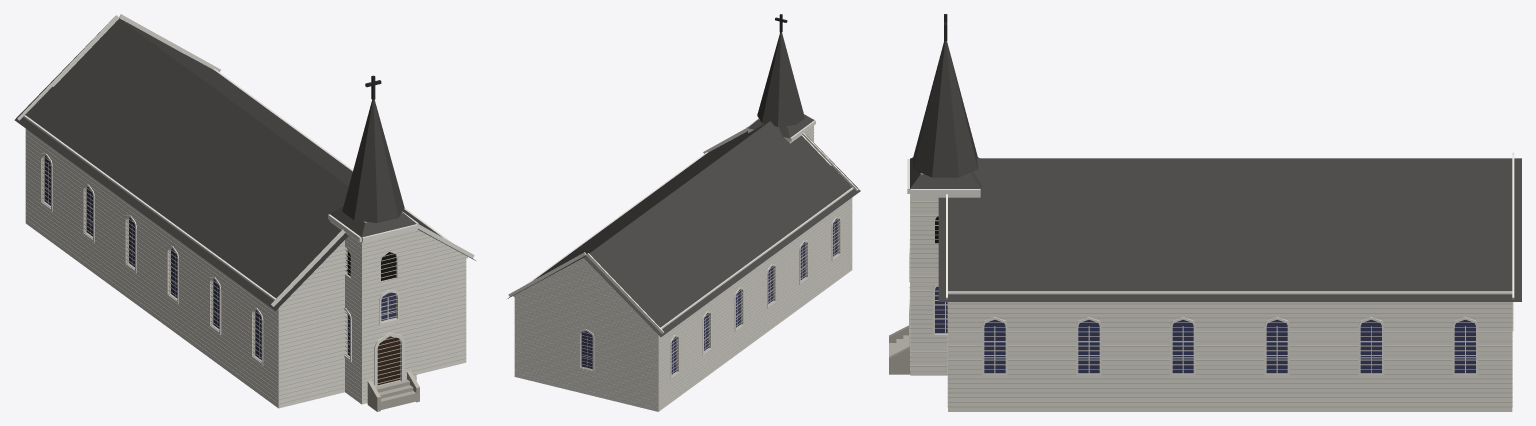
The model's file is ch-st-bartholomews-catholic-1961.glb.
3 views of the same model, side by side, from view 1: azimuth 30°, elevation 25°; view 2: azimuth 150°, elevation 25°; view 3: azimuth 270°, elevation 25° (orthographic). The views are drawn at different scales.
Parts seen in each view (by area): view 1: ch_roof, ch_brick, ch_brick2, ch_trim, ch_roof2, ch_stain, ch_conc, ch_door, ch_shadow; view 2: ch_roof, ch_brick, ch_brick2, ch_trim, ch_roof2, ch_stain; view 3: ch_roof, ch_brick, ch_brick2, ch_trim, ch_stain, ch_roof2, ch_conc.
Boxes of the visible parts, x1=… form: ch_roof: x1=14, y1=16, x2=475, y2=310; ch_brick: x1=25, y1=129, x2=466, y2=408; ch_brick2: x1=25, y1=36, x2=466, y2=404; ch_trim: x1=17, y1=14, x2=474, y2=387; ch_roof2: x1=330, y1=99, x2=416, y2=237; ch_stain: x1=44, y1=156, x2=395, y2=359; ch_conc: x1=367, y1=371, x2=419, y2=411; ch_door: x1=377, y1=336, x2=399, y2=385; ch_shadow: x1=347, y1=250, x2=395, y2=280; ch_roof: x1=507, y1=121, x2=860, y2=336; ch_brick: x1=514, y1=126, x2=852, y2=411; ch_brick2: x1=514, y1=126, x2=852, y2=408; ch_trim: x1=508, y1=118, x2=858, y2=379; ch_roof2: x1=748, y1=32, x2=814, y2=138; ch_stain: x1=581, y1=218, x2=837, y2=374; ch_roof: x1=938, y1=158, x2=1521, y2=301; ch_brick: x1=910, y1=173, x2=1512, y2=411; ch_brick2: x1=910, y1=194, x2=1512, y2=407; ch_trim: x1=907, y1=152, x2=1514, y2=377; ch_stain: x1=935, y1=287, x2=1475, y2=373; ch_roof2: x1=909, y1=41, x2=981, y2=189; ch_conc: x1=889, y1=325, x2=910, y2=374.
Size of the model in its own units: 11.13 by 16.35 by 26.92.
